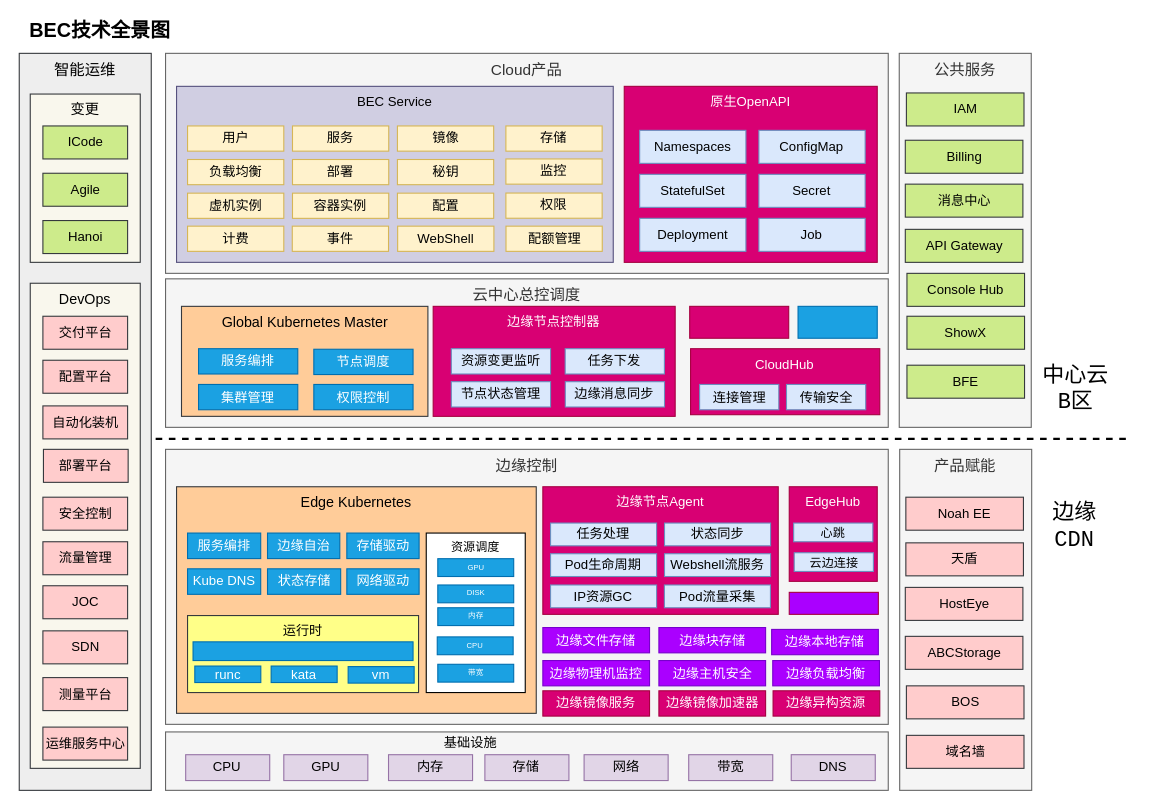
This 1152x810 diagram has some shape labels left out. The shapes that lost their labels are listed below. From the top down, each one's centre as x and y in pixels, then its label:
At (739,321): "WebShell代理".
At (837,321): "监控汇聚".
At (833,602): "业务监控采集".
At (302,651): "cotainerd".
